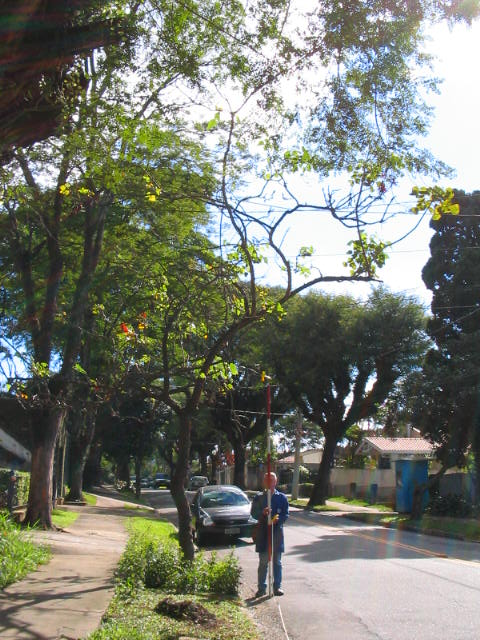crown: (274, 290, 426, 391)
stem: (160, 412, 205, 587), (305, 440, 341, 505)
stick: (259, 386, 279, 596)
tree: (116, 109, 449, 588), (270, 288, 429, 506)
